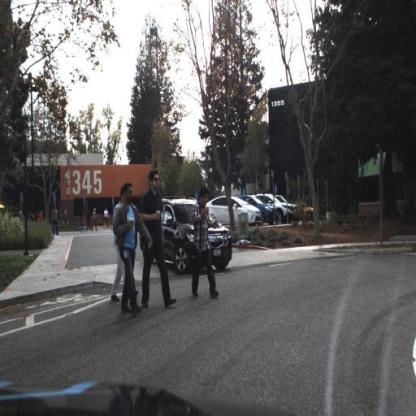biker: (103, 207, 111, 231)
car: (139, 196, 231, 277), (216, 188, 263, 227), (256, 190, 299, 223), (238, 195, 280, 226)
pedestrian: (114, 184, 154, 317), (141, 171, 177, 306), (191, 189, 220, 301), (110, 188, 128, 302), (51, 202, 61, 237), (51, 204, 60, 238), (91, 206, 99, 233), (86, 206, 92, 233), (93, 207, 98, 233)
